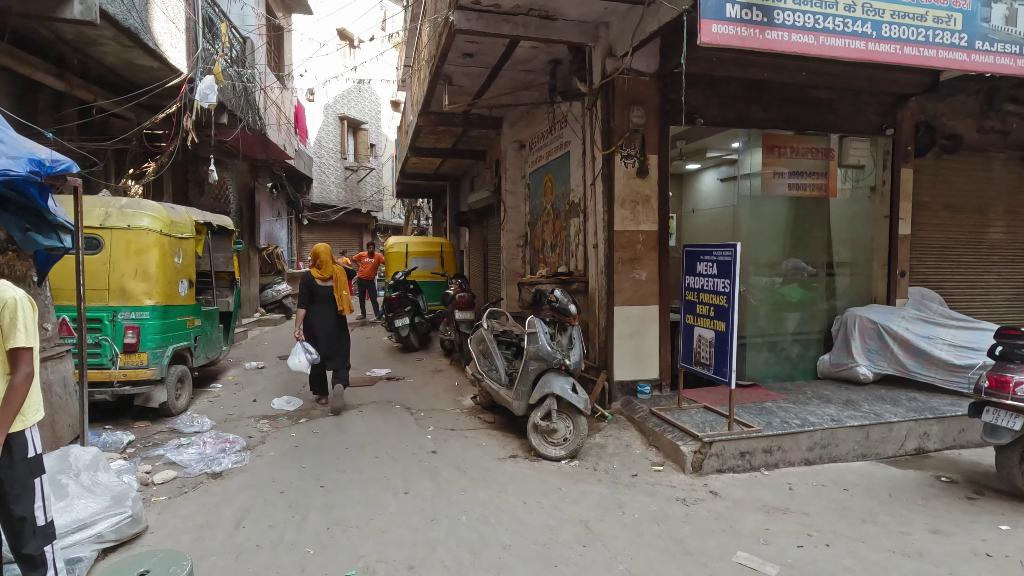garbage: (149, 430, 252, 477), (286, 339, 322, 375), (165, 411, 217, 434), (99, 428, 136, 452), (194, 74, 219, 108), (270, 395, 305, 411), (207, 155, 219, 186), (365, 368, 392, 377), (244, 361, 266, 370)
